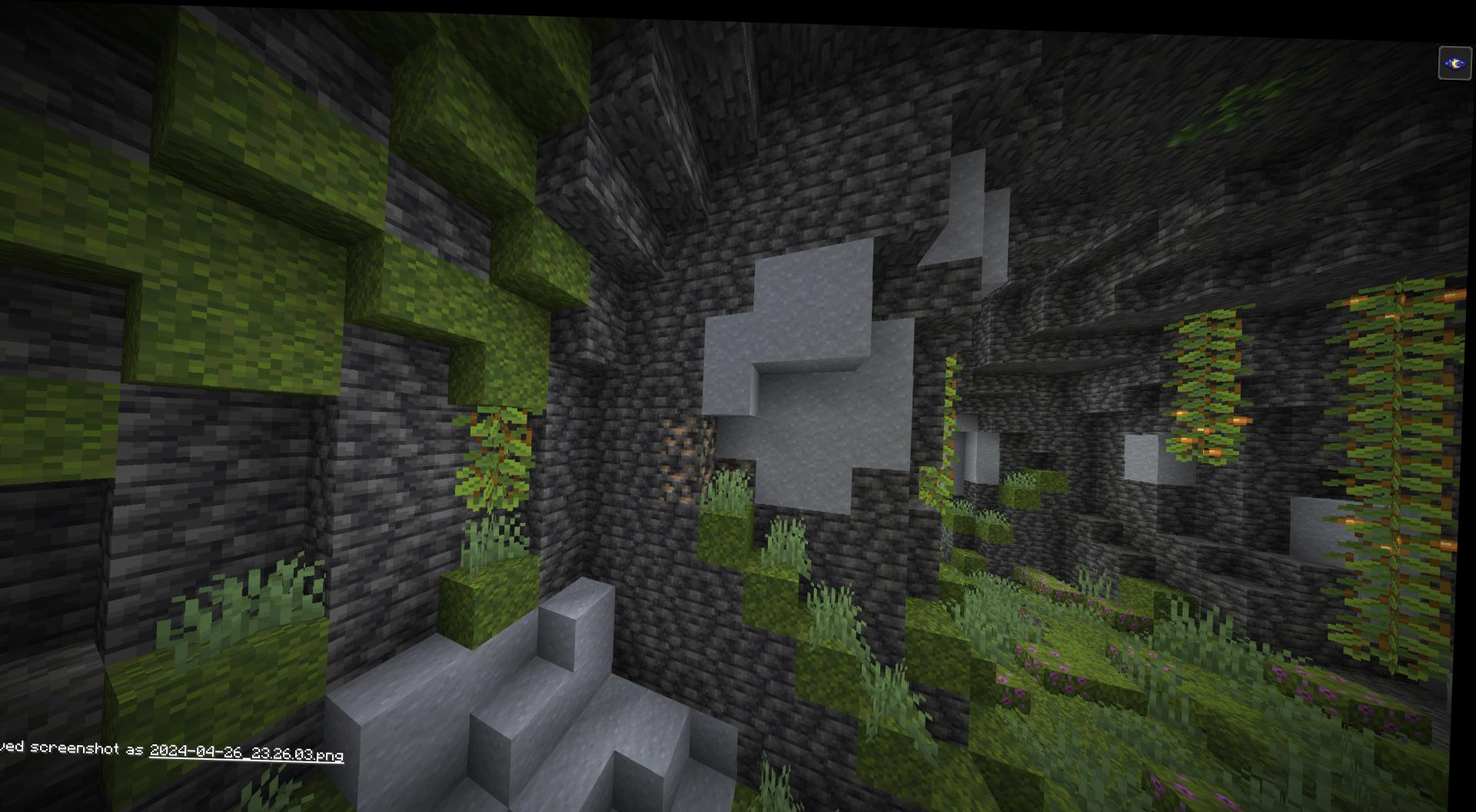iron ore: (660, 410, 722, 455), (661, 460, 713, 501)
